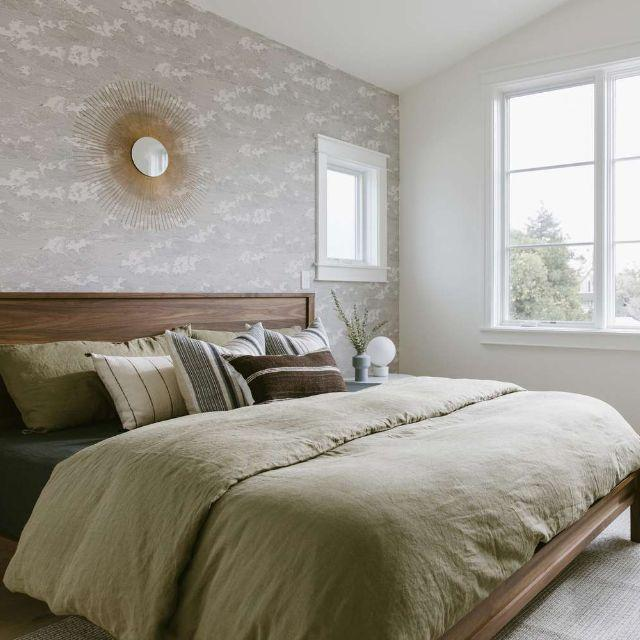bed: (0, 391, 640, 640)
pillow: (88, 334, 207, 426), (9, 345, 116, 423), (228, 351, 343, 405)
window: (494, 85, 640, 335), (316, 135, 388, 285)
